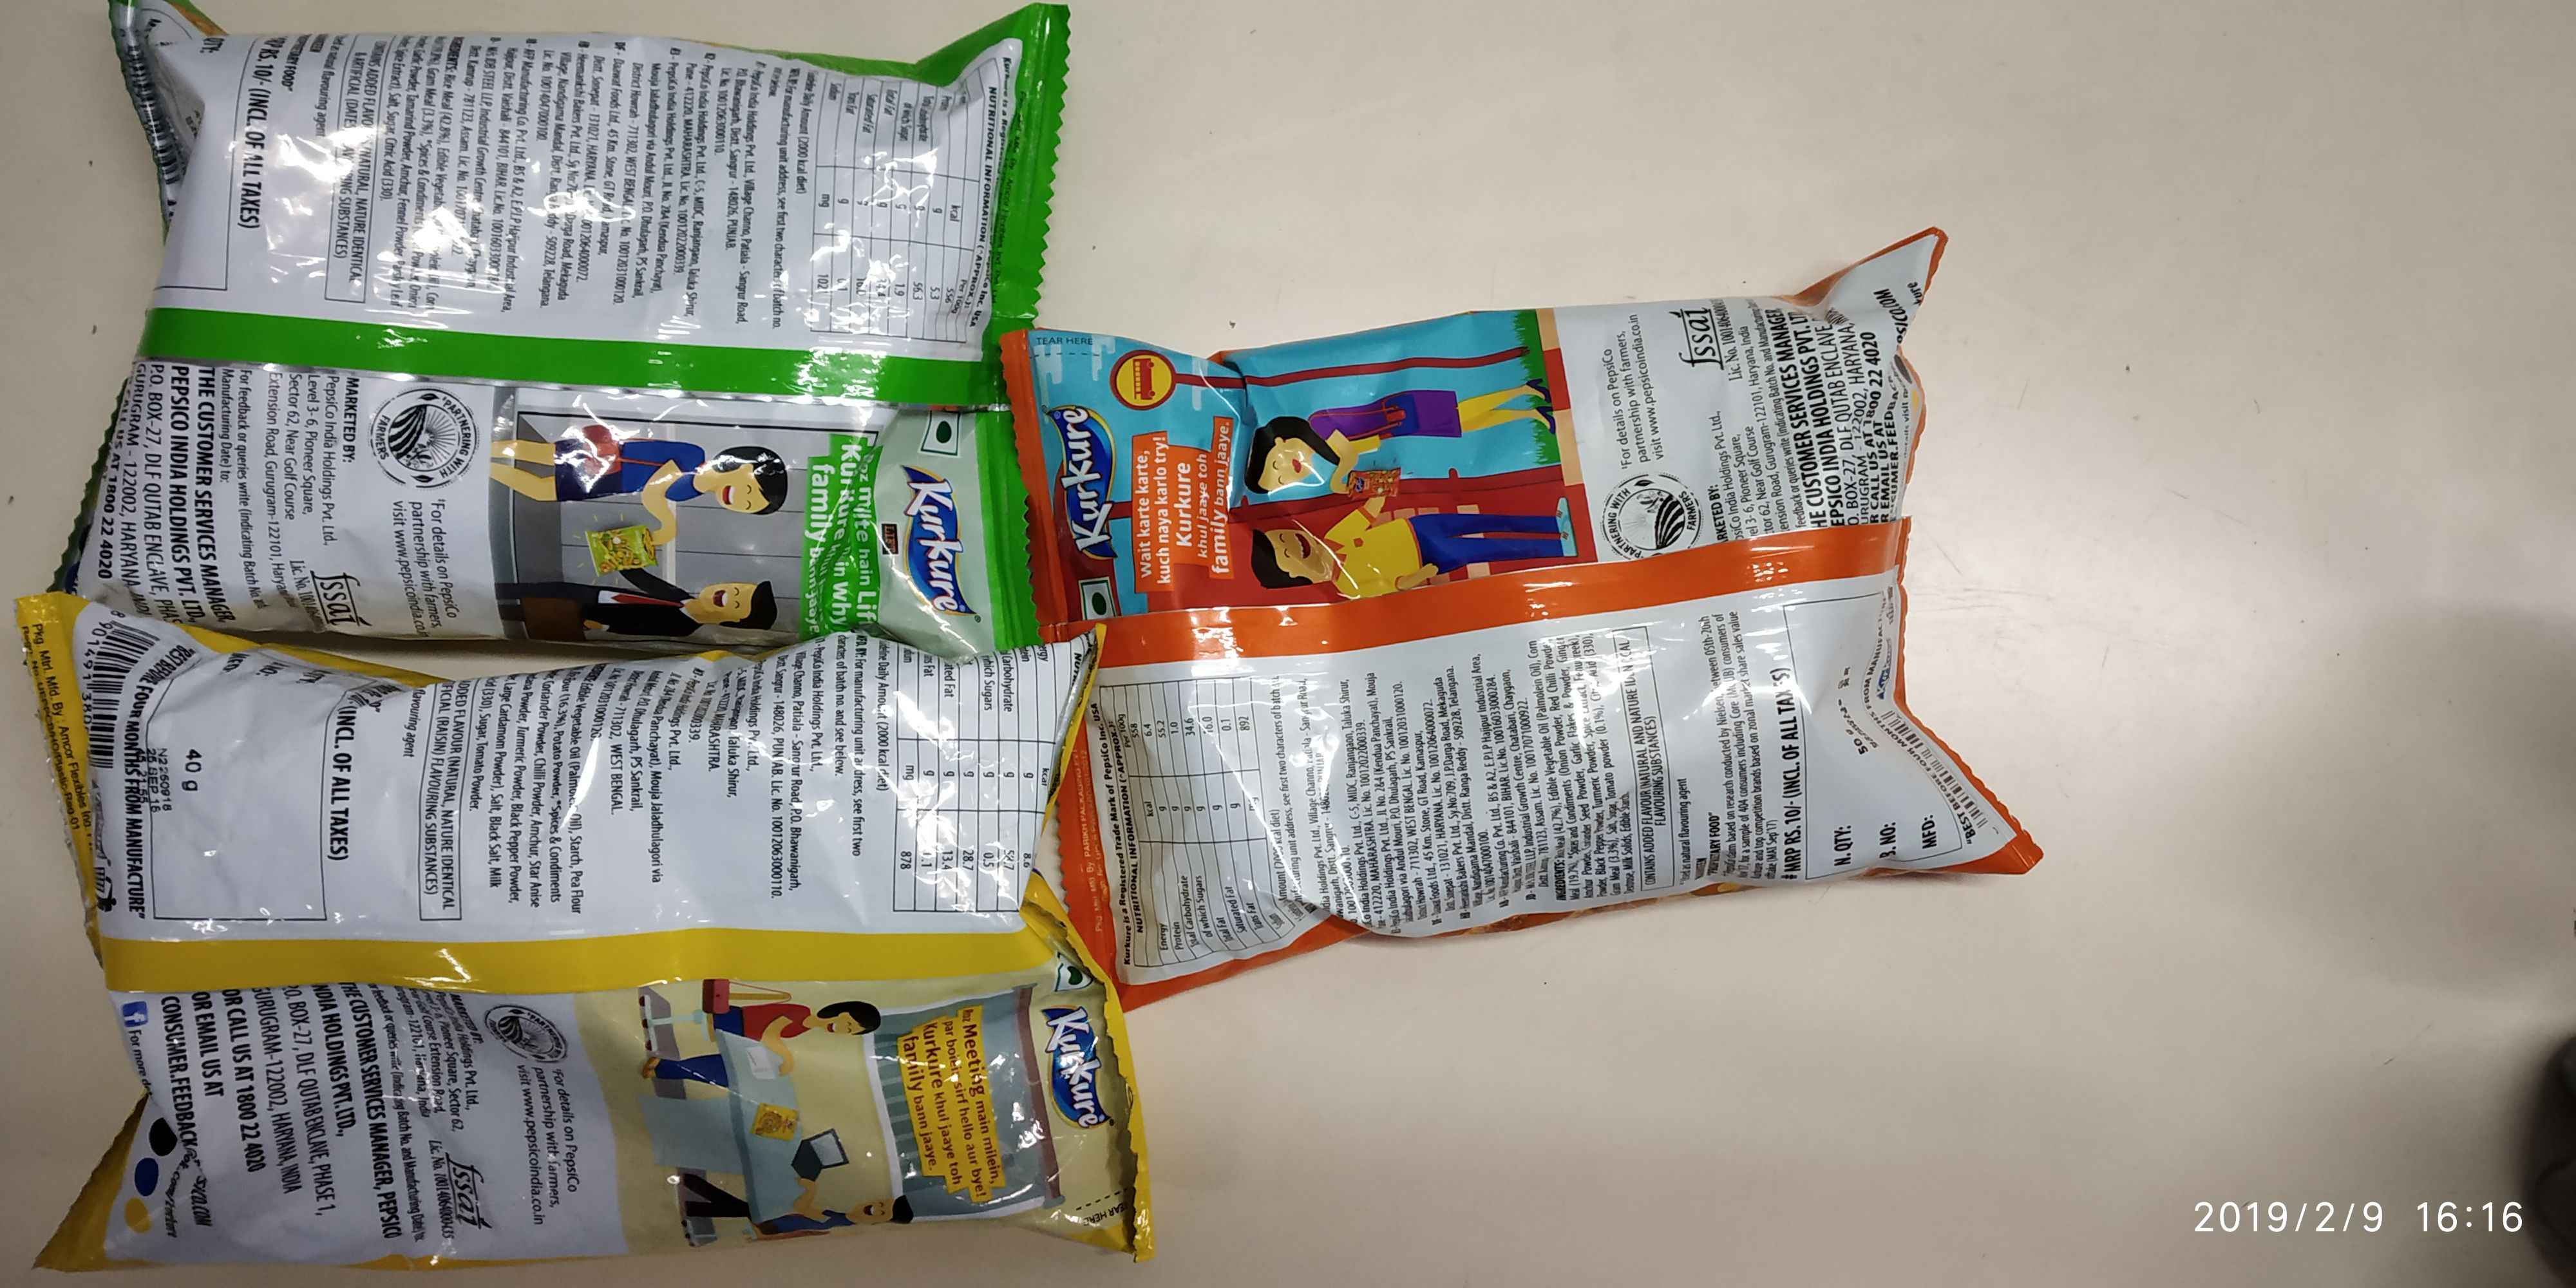kurkure: (1037, 979, 1135, 1155), (1056, 384, 1130, 586), (902, 458, 986, 628)
